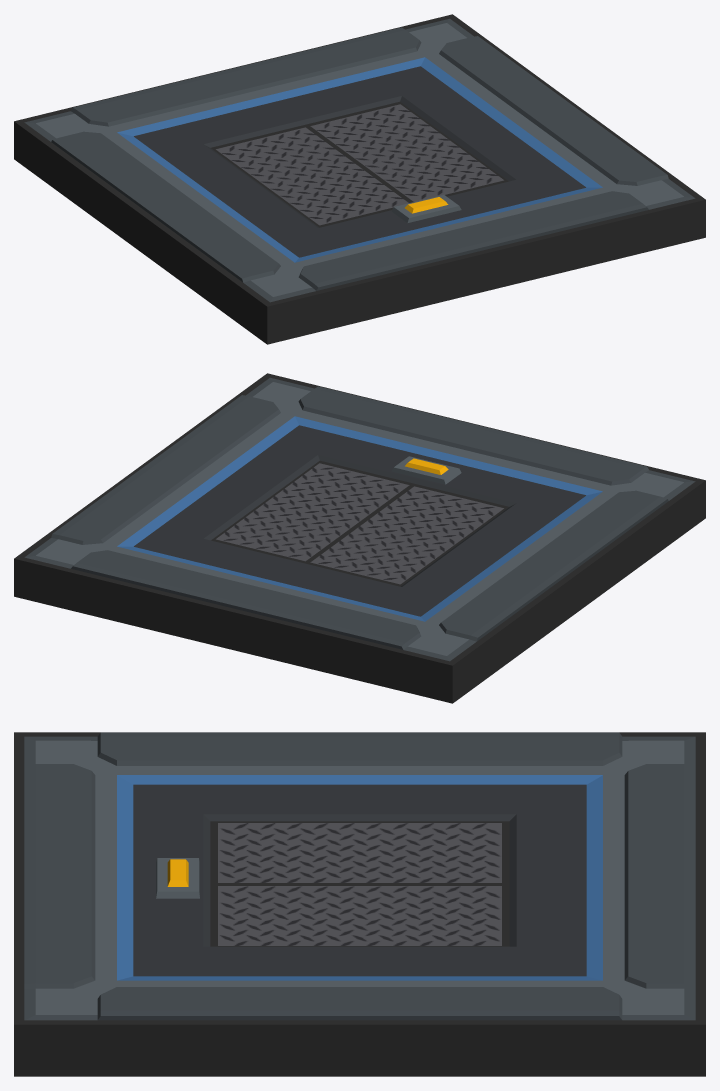
The model's file is SM_Bld_Floor_Small_01.fbx.
The picture shows the model from 3 angles, top to bottom: view 1: azimuth 30°, elevation 25°; view 2: azimuth 150°, elevation 25°; view 3: azimuth 270°, elevation 25°; orthographic projection. The views are drawn at different scales.
Visible parts, largest first — view 1: SM_Bld_Floor_Small_01; view 2: SM_Bld_Floor_Small_01; view 3: SM_Bld_Floor_Small_01.
Part boxes in pixels (x1,y1,x2,y2): SM_Bld_Floor_Small_01: [14, 14, 705, 344]; SM_Bld_Floor_Small_01: [14, 373, 705, 703]; SM_Bld_Floor_Small_01: [14, 732, 705, 1076].
Size of the model in its own units: 250 by 24.2 by 250.
1 material, 1 textured.
